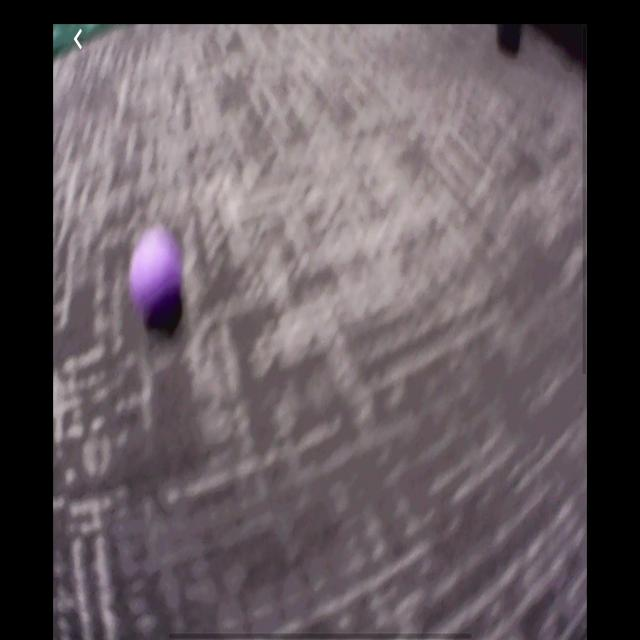ball: (133, 230, 187, 329)
